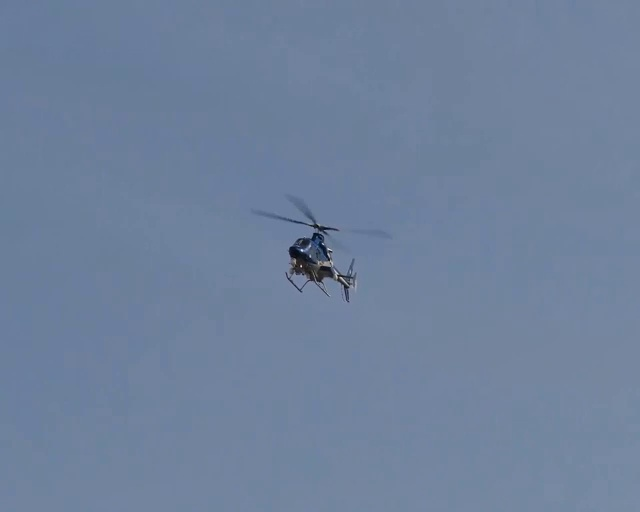HELICOPTER: (249, 191, 392, 304)
